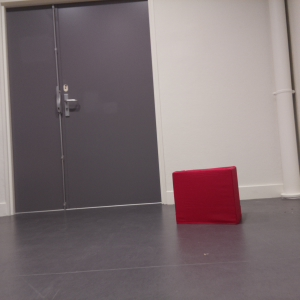medium: (170, 165, 244, 227)
